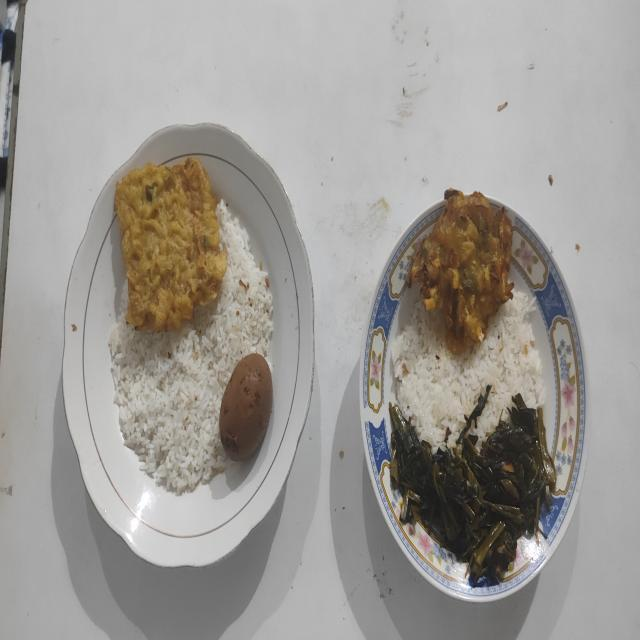nasi_putih: (108, 202, 274, 496), (390, 292, 544, 451)
tumis_kangkung: (389, 385, 556, 587)
